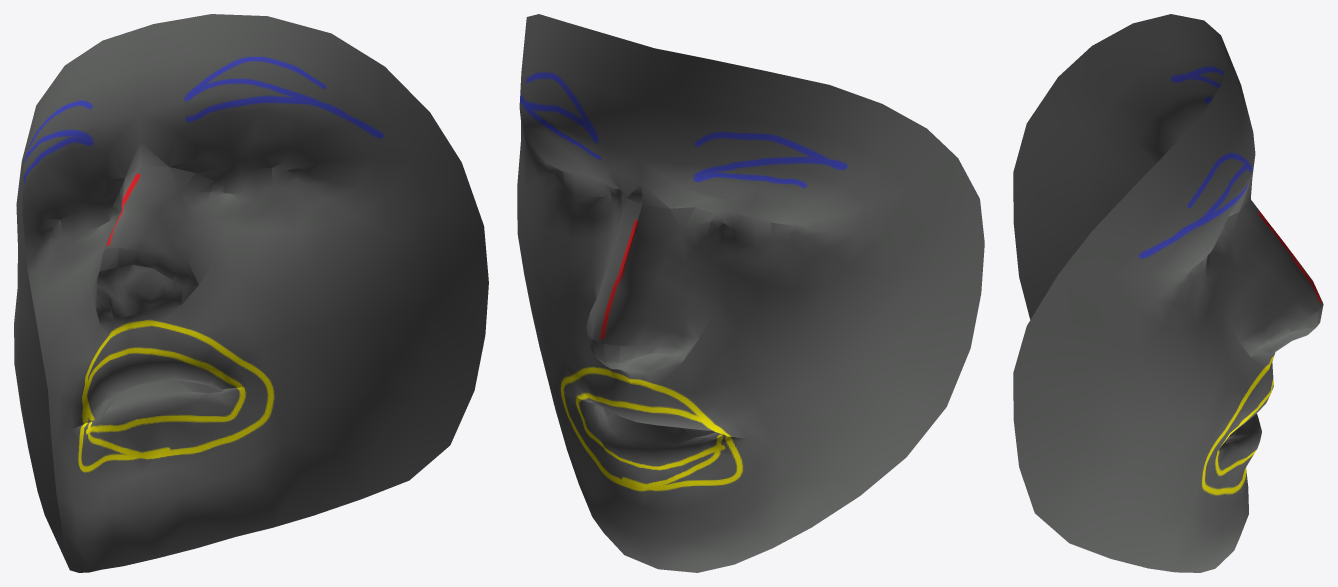
The model's file is red.fbx.
The picture shows the model from 3 angles, left to right: view 1: azimuth 30°, elevation 25°; view 2: azimuth 150°, elevation 25°; view 3: azimuth 270°, elevation 25°; orthographic projection. The views are drawn at different scales.
Visible parts, largest first — view 1: node_id9; view 2: node_id9; view 3: node_id9.
Part boxes in pixels (x1,y1,x2,y2): node_id9: (14,14,488,572); node_id9: (517,14,984,572); node_id9: (1013,14,1323,572).
Bounding box in the file's own units: 0.4488 × 0.512 × 0.2905.
1 material, 1 textured.
